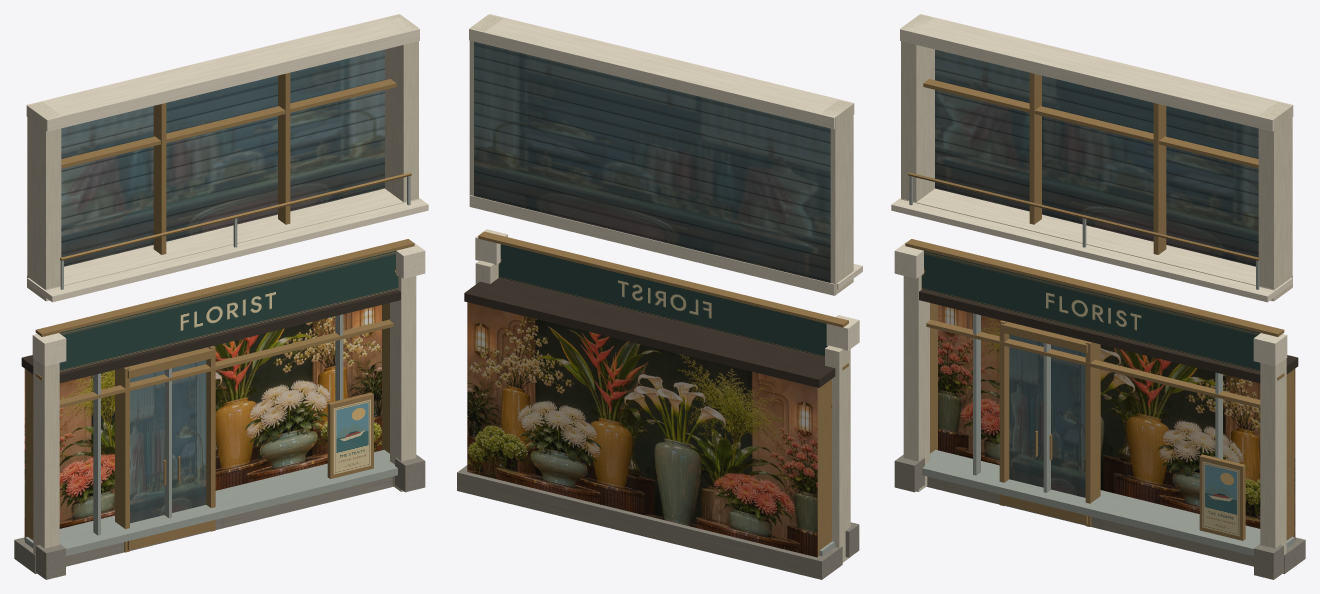
The model's file is FloristBay.fbx.
3 renders of one model, left to right at view 1: azimuth 30°, elevation 25°; view 2: azimuth 150°, elevation 25°; view 3: azimuth 330°, elevation 25°, orthographic. The views are drawn at different scales.
Visible parts, largest first — view 1: FloristBay Close; view 2: FloristBay Close; view 3: FloristBay Close.
Boxes of the visible parts, x1,y1,x2,y2 form: FloristBay Close: (14, 14, 428, 579); FloristBay Close: (457, 14, 862, 579); FloristBay Close: (891, 14, 1305, 579).
Bounding box in the file's own units: 613 × 712 × 111.
